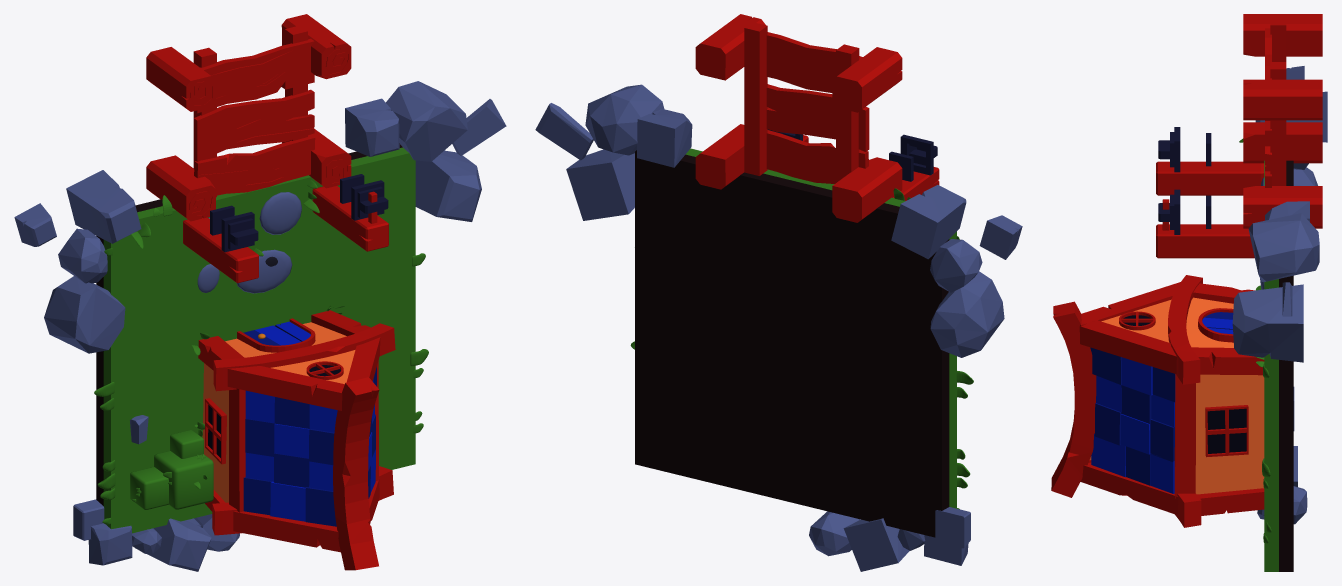
3 renders of one model, left to right at view 1: azimuth 30°, elevation 25°; view 2: azimuth 150°, elevation 25°; view 3: azimuth 270°, elevation 25°, orthographic.
Parts seen in each view (by area): view 1: SUELO_Cubo.044, Cubo.004, Cubo.041_Cubo.051, Cubo.038_Cubo.047, Cubo.055_Cubo.070, Cubo.102_Cubo.117, Cubo.042_Cubo.052, Cubo.103_Cubo.118, Cubo.052_Cubo.063, PAREDES_Cubo, Cubo.005, Cubo.001 (+42 smaller); view 2: SUELO_Cubo.044, Cubo.055_Cubo.070, Cubo.103_Cubo.118, Cubo.041_Cubo.051, Cubo.052_Cubo.063, Cubo.039_Cubo.050, Cubo.102_Cubo.117, Cubo.038_Cubo.047, Cubo.043_Cubo.053, Cubo_Cubo.045, Cubo.042_Cubo.052, Cubo.104_Cubo.119 (+12 smaller); view 3: PAREDES_Cubo, SUELO_Cubo.044, Cubo.103_Cubo.118, Cubo.004, Cubo.102_Cubo.117, Cubo.046_Cubo.001, Cubo.045_Cubo.055, Cubo.046_Cubo.056, Cubo.008, Cubo_Cubo.045, Cubo.043_Cubo.053, Cubo.009 (+32 smaller).
Part boxes in pixels (x1,y1,x2,y2): SUELO_Cubo.044: [96, 143, 415, 533]; Cubo.004: [333, 377, 379, 570]; Cubo.041_Cubo.051: [194, 89, 314, 161]; Cubo.038_Cubo.047: [194, 38, 314, 113]; Cubo.055_Cubo.070: [44, 276, 125, 353]; Cubo.102_Cubo.117: [386, 81, 467, 161]; Cubo.042_Cubo.052: [194, 135, 315, 195]; Cubo.103_Cubo.118: [415, 150, 481, 221]; Cubo.052_Cubo.063: [66, 170, 141, 243]; PAREDES_Cubo: [202, 322, 355, 502]; Cubo.005: [227, 366, 344, 410]; Cubo.001: [213, 323, 395, 391]; SUELO_Cubo.044: [635, 148, 956, 537]; Cubo.055_Cubo.070: [930, 271, 1004, 357]; Cubo.103_Cubo.118: [566, 149, 634, 220]; Cubo.041_Cubo.051: [766, 84, 869, 151]; Cubo.052_Cubo.063: [891, 185, 966, 259]; Cubo.039_Cubo.050: [744, 22, 767, 175]; Cubo.102_Cubo.117: [585, 84, 664, 155]; Cubo.038_Cubo.047: [766, 32, 862, 92]; Cubo.043_Cubo.053: [832, 157, 902, 222]; Cubo_Cubo.045: [832, 47, 902, 112]; Cubo.042_Cubo.052: [766, 130, 868, 183]; Cubo.104_Cubo.119: [637, 109, 692, 167]; PAREDES_Cubo: [1089, 297, 1264, 494]; SUELO_Cubo.044: [1264, 160, 1293, 571]; Cubo.103_Cubo.118: [1232, 284, 1303, 362]; Cubo.004: [1051, 301, 1096, 497]; Cubo.102_Cubo.117: [1248, 213, 1319, 281]; Cubo.046_Cubo.001: [1156, 161, 1264, 195]; Cubo.045_Cubo.055: [1243, 79, 1322, 120]; Cubo.046_Cubo.056: [1156, 224, 1254, 258]; Cubo.008: [1079, 320, 1176, 373]; Cubo_Cubo.045: [1243, 14, 1322, 56]; Cubo.043_Cubo.053: [1243, 122, 1322, 163]; Cubo.009: [1174, 374, 1195, 498].
Size of the model in its own units: 5.27 by 5.29 by 2.64.
